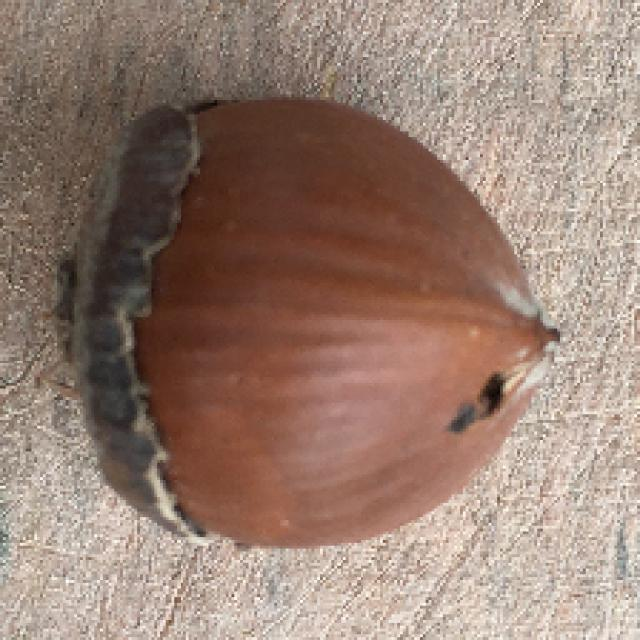damagedHazelnut: (48, 84, 565, 552)
